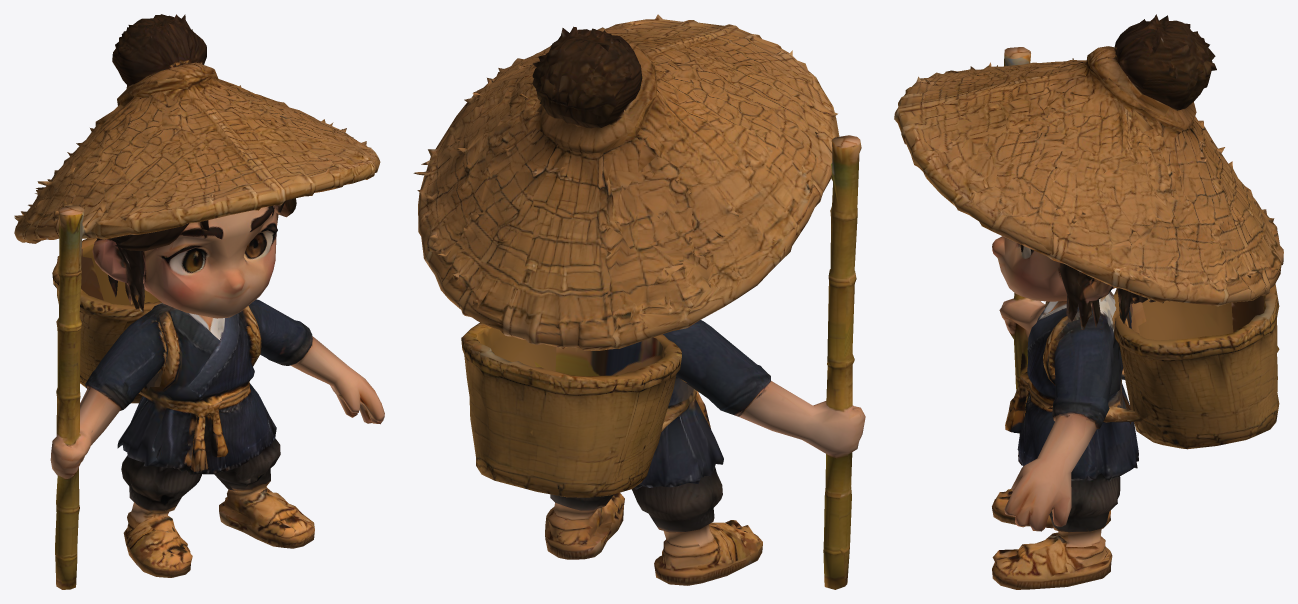
The model's file is ruanzhao.fbx.
3 renders of one model, left to right at view 1: azimuth 30°, elevation 25°; view 2: azimuth 150°, elevation 25°; view 3: azimuth 270°, elevation 25°, orthographic. The views are drawn at different scales.
Visible parts, largest first — view 1: 1_output_1794003541398746_xSxiJpWVt; view 2: 1_output_1794003541398746_xSxiJpWVt; view 3: 1_output_1794003541398746_xSxiJpWVt.
Boxes of the visible parts, box(x1,y1,x2,y2) form: 1_output_1794003541398746_xSxiJpWVt: box(14, 14, 384, 589); 1_output_1794003541398746_xSxiJpWVt: box(413, 14, 865, 589); 1_output_1794003541398746_xSxiJpWVt: box(894, 14, 1283, 589).
Size of the model in its own units: 1.14 by 1.6 by 1.08.
1 material, 1 textured.
